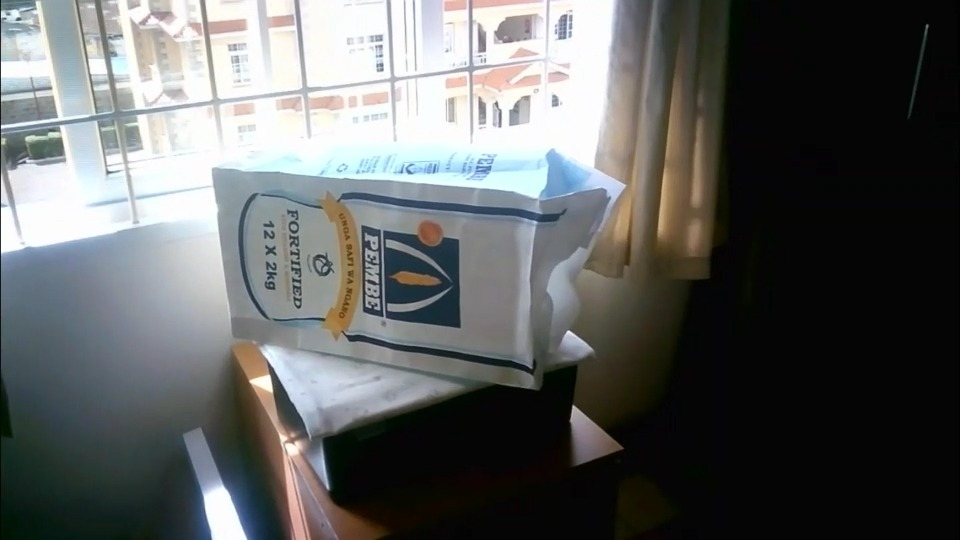wheat_flour_blue_label: (210, 138, 622, 388)
